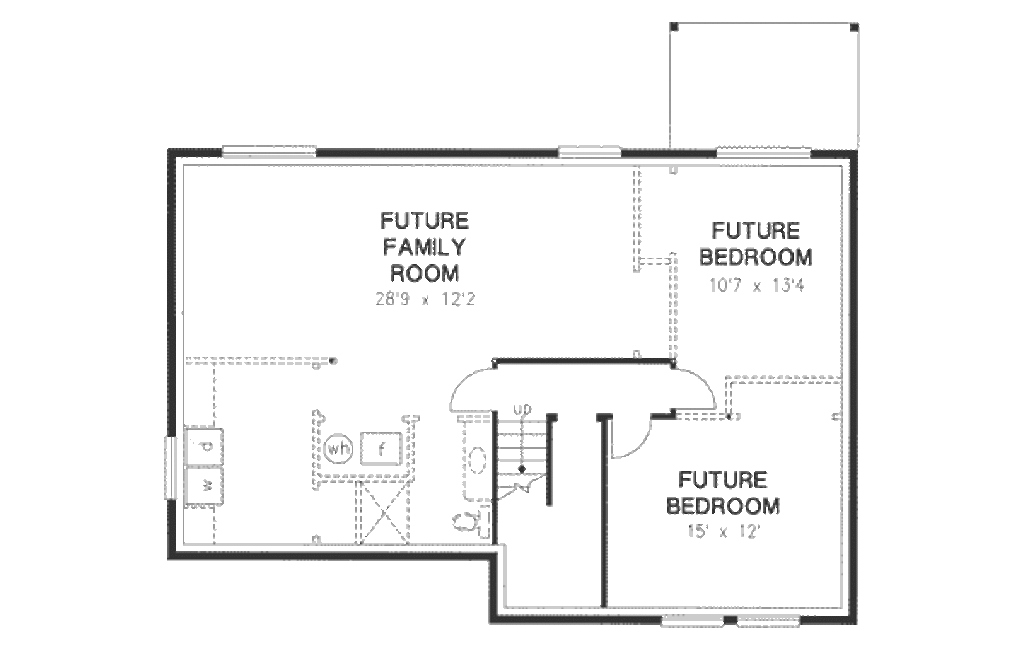door: (441, 361, 499, 416), (669, 356, 721, 415), (608, 415, 653, 462)
large_sink: (445, 500, 497, 545)
small_sink: (450, 417, 491, 506)
stairs: (495, 410, 563, 518)
window: (700, 139, 822, 165), (209, 138, 324, 165), (553, 136, 630, 167), (738, 607, 800, 630), (659, 606, 732, 623)
